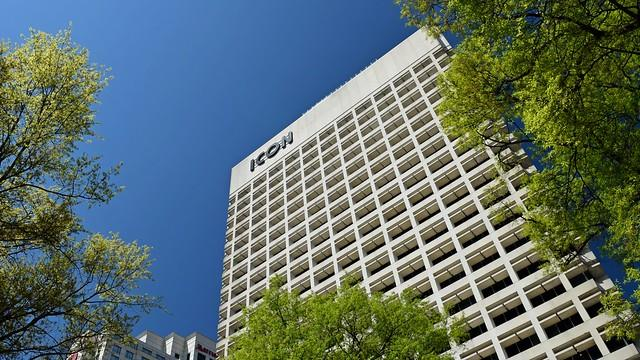building: (204, 15, 640, 360)
